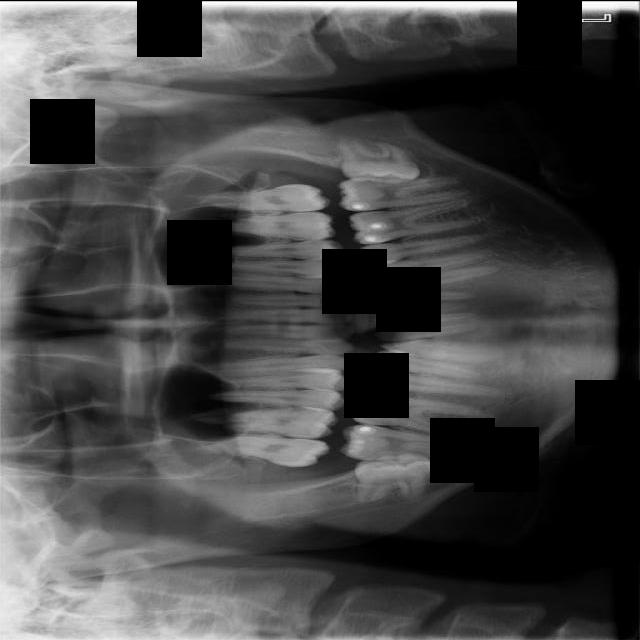52: (340, 421, 393, 461), (291, 406, 308, 411)
73: (585, 17, 603, 24)
BioHorizons Implant: (196, 183, 332, 211)
Biomet 3i Implant: (335, 135, 422, 185)
Blue Sky Bio Implant: (336, 174, 471, 211)
Caries: (193, 430, 330, 469)
Implant: (338, 420, 478, 473)
Keystone Dental Implant: (353, 450, 439, 503)
